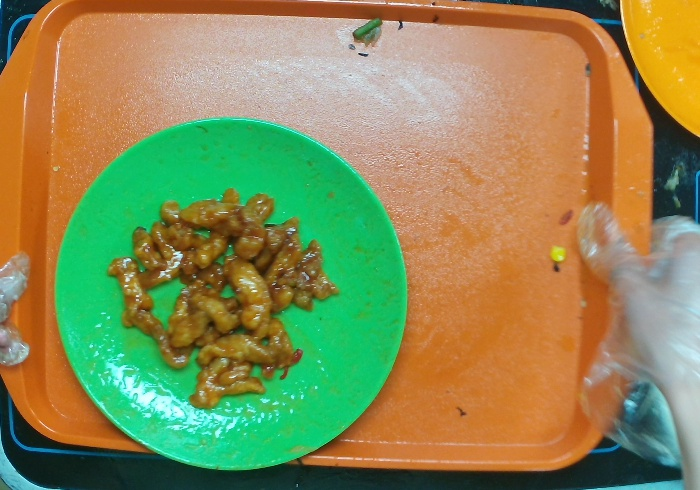HZYJPL-Lv_Se_Yuan_Pan: (52, 113, 414, 480)
